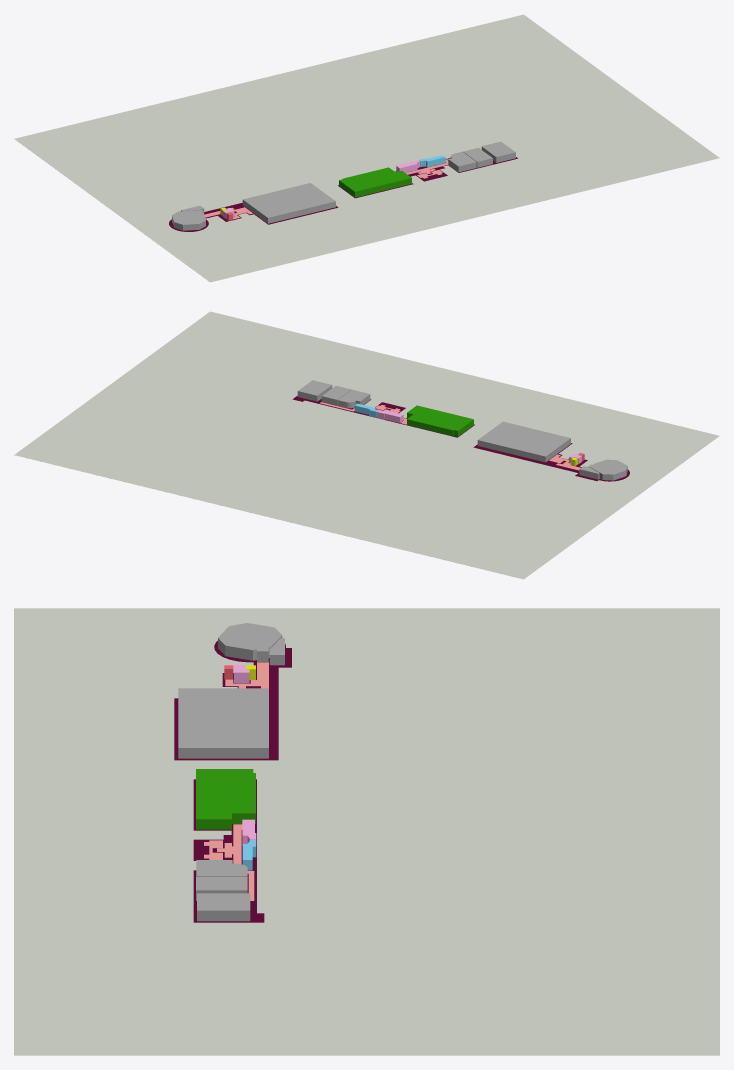
File: njc-b2-v2-31-3.glb
The picture shows the model from 3 angles, top to bottom: view 1: azimuth 30°, elevation 25°; view 2: azimuth 150°, elevation 25°; view 3: azimuth 270°, elevation 25°; orthographic projection. The views are drawn at different scales.
Parts seen in each view (by area): view 1: Grey, None, Green, Base, Foot; view 2: Grey, None, Green, Base; view 3: Grey, None, Base, Green, Foot.
Boxes of the visible parts, bbox=[...] form: Grey: bbox=[14, 14, 719, 282]; None: bbox=[172, 141, 515, 230]; Green: bbox=[339, 167, 411, 197]; Base: bbox=[169, 157, 517, 231]; Foot: bbox=[204, 159, 448, 219]; Grey: bbox=[14, 311, 719, 579]; None: bbox=[297, 380, 627, 480]; Green: bbox=[407, 405, 473, 436]; Base: bbox=[292, 396, 629, 481]; Grey: bbox=[14, 608, 719, 1055]; None: bbox=[178, 623, 284, 921]; Base: bbox=[174, 641, 291, 922]; Green: bbox=[196, 769, 255, 829]; Foot: bbox=[204, 662, 268, 900].
Size of the model in its own units: 18 by 0.2 by 12.
